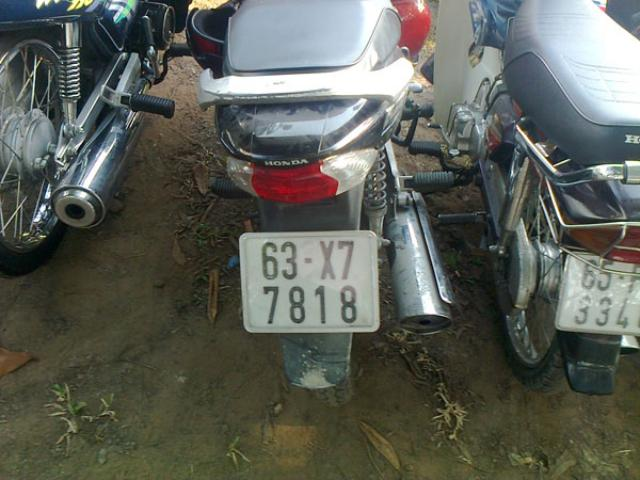plate: (243, 235, 377, 329)
